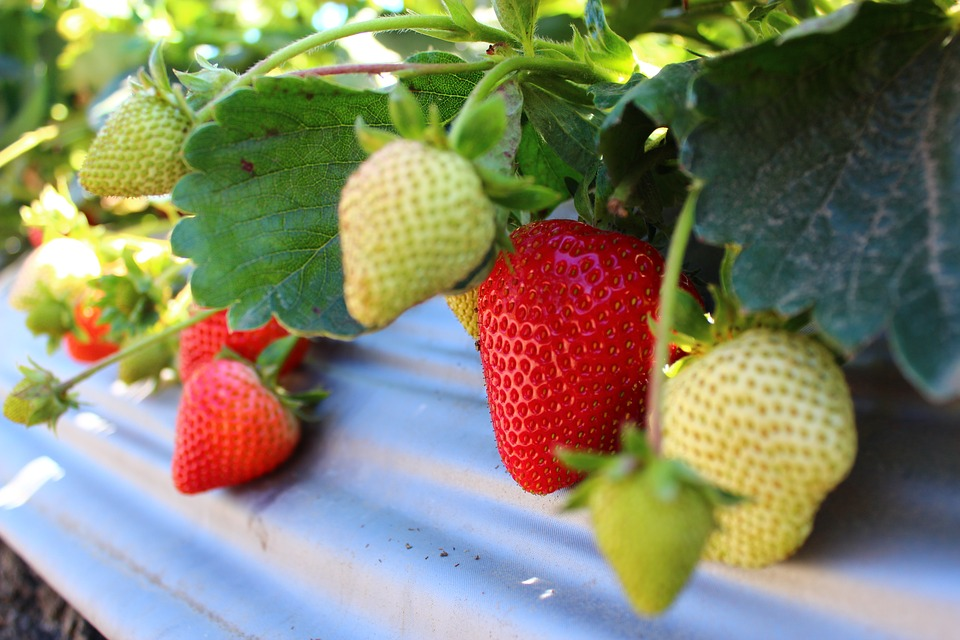ripe_strawberry: (475, 217, 708, 498), (169, 356, 307, 498), (175, 299, 315, 383)
unripe_strawberry: (656, 328, 866, 574), (339, 139, 496, 332), (581, 449, 718, 623), (79, 91, 200, 199), (4, 367, 70, 431), (441, 287, 479, 351)
